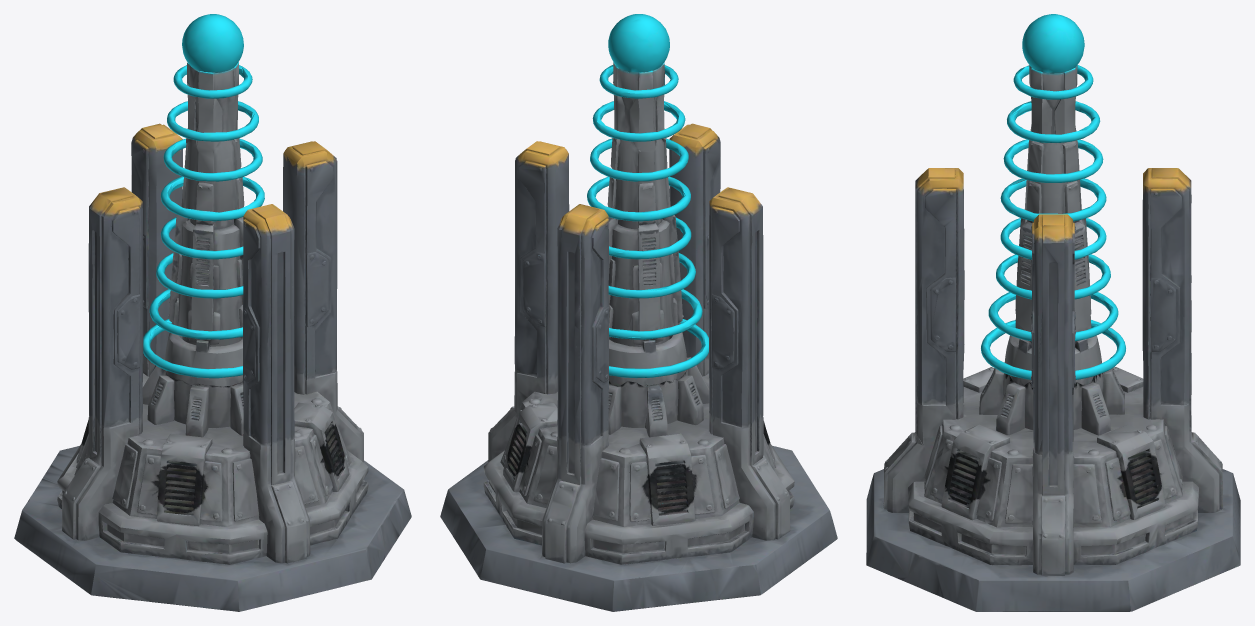
File: town-shield-full.glb
The picture shows the model from 3 angles, left to right: view 1: azimuth 30°, elevation 25°; view 2: azimuth 150°, elevation 25°; view 3: azimuth 270°, elevation 25°; orthographic projection.
Parts seen in each view (by area): view 1: town-shield-full; view 2: town-shield-full; view 3: town-shield-full.
Part boxes in pixels (x1,y1,x2,y2): town-shield-full: (14,14,411,611); town-shield-full: (440,14,837,611); town-shield-full: (866,14,1240,611).
Bounding box in the file's own units: 7.2 × 10.96 × 7.2.
1 material, 1 textured.
